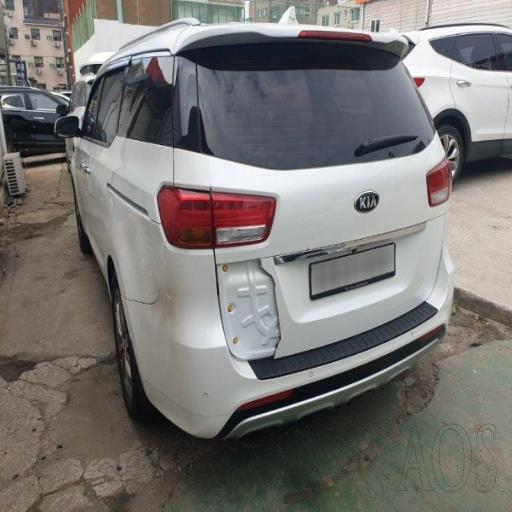broken: (106, 236, 214, 366)
dent: (250, 230, 426, 280)
